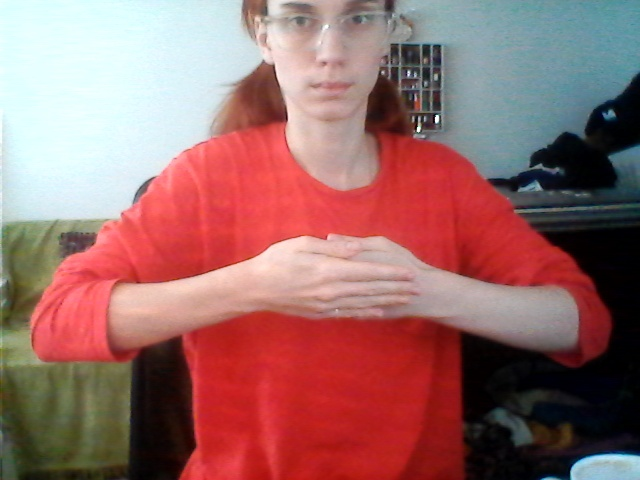dvere: (246, 225, 428, 337)
